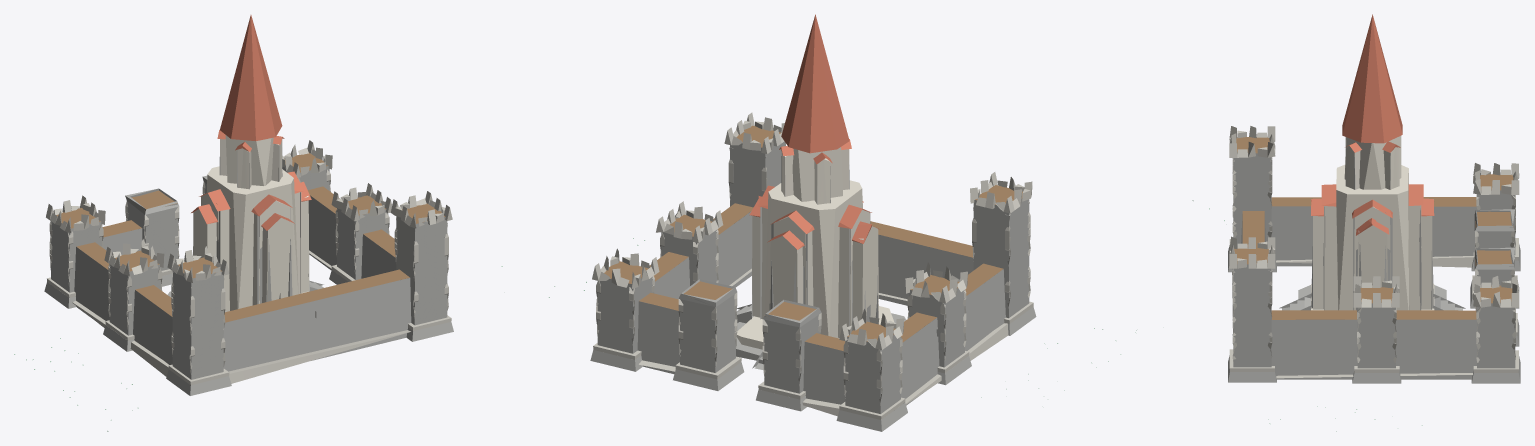
File: chunk_1_0_lod1.glb
3 renders of one model, left to right at view 1: azimuth 30°, elevation 25°; view 2: azimuth 150°, elevation 25°; view 3: azimuth 270°, elevation 25°, orthographic. The views are drawn at different scales.
Parts seen in each view (by area): view 1: Batched_Chunk_1_0.001; view 2: Batched_Chunk_1_0.001; view 3: Batched_Chunk_1_0.001.
Part boxes in pixels (x1,y1,x2,y2): Batched_Chunk_1_0.001: [14, 15, 502, 431]; Batched_Chunk_1_0.001: [549, 14, 1136, 431]; Batched_Chunk_1_0.001: [1192, 14, 1520, 431].
Bounding box in the file's own units: 88.11 × 53.88 × 52.9.
